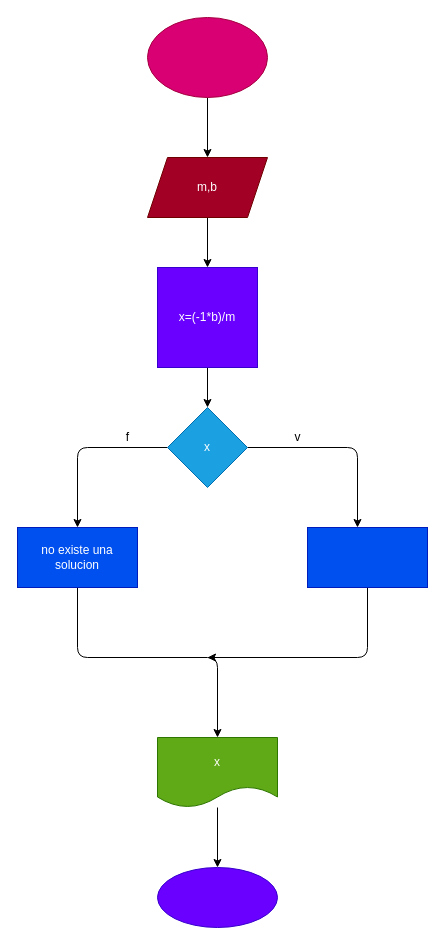
This 445x945 diagram has some shape labels left out. The centre of each missing label's shape, as x and y in pixels:
FIN: the point at 217,897
INICIO: the point at 207,57
Si existe una solucion, la cual es el resultado que nos da x: the point at 367,557
